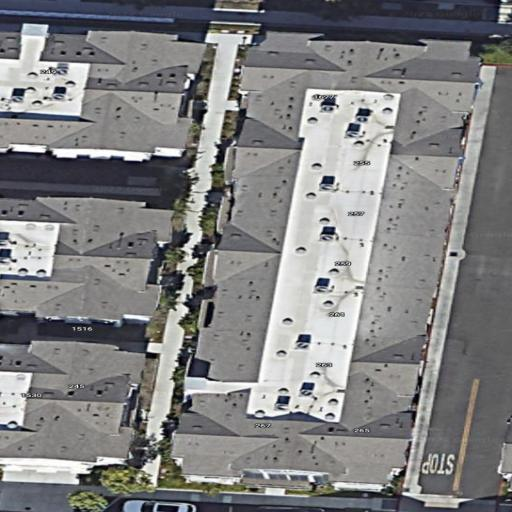Slope-Roof: (178, 32, 487, 488)
